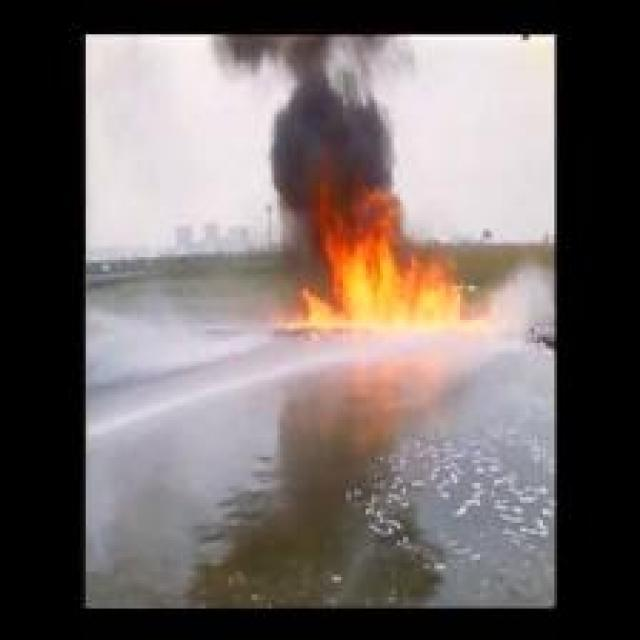Fire: (281, 154, 493, 332)
